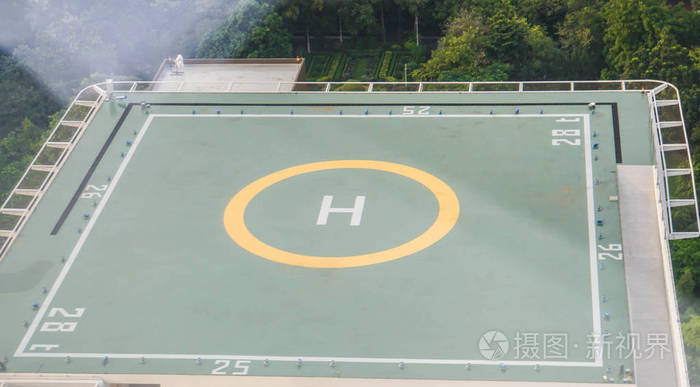H: (316, 195, 367, 225)
